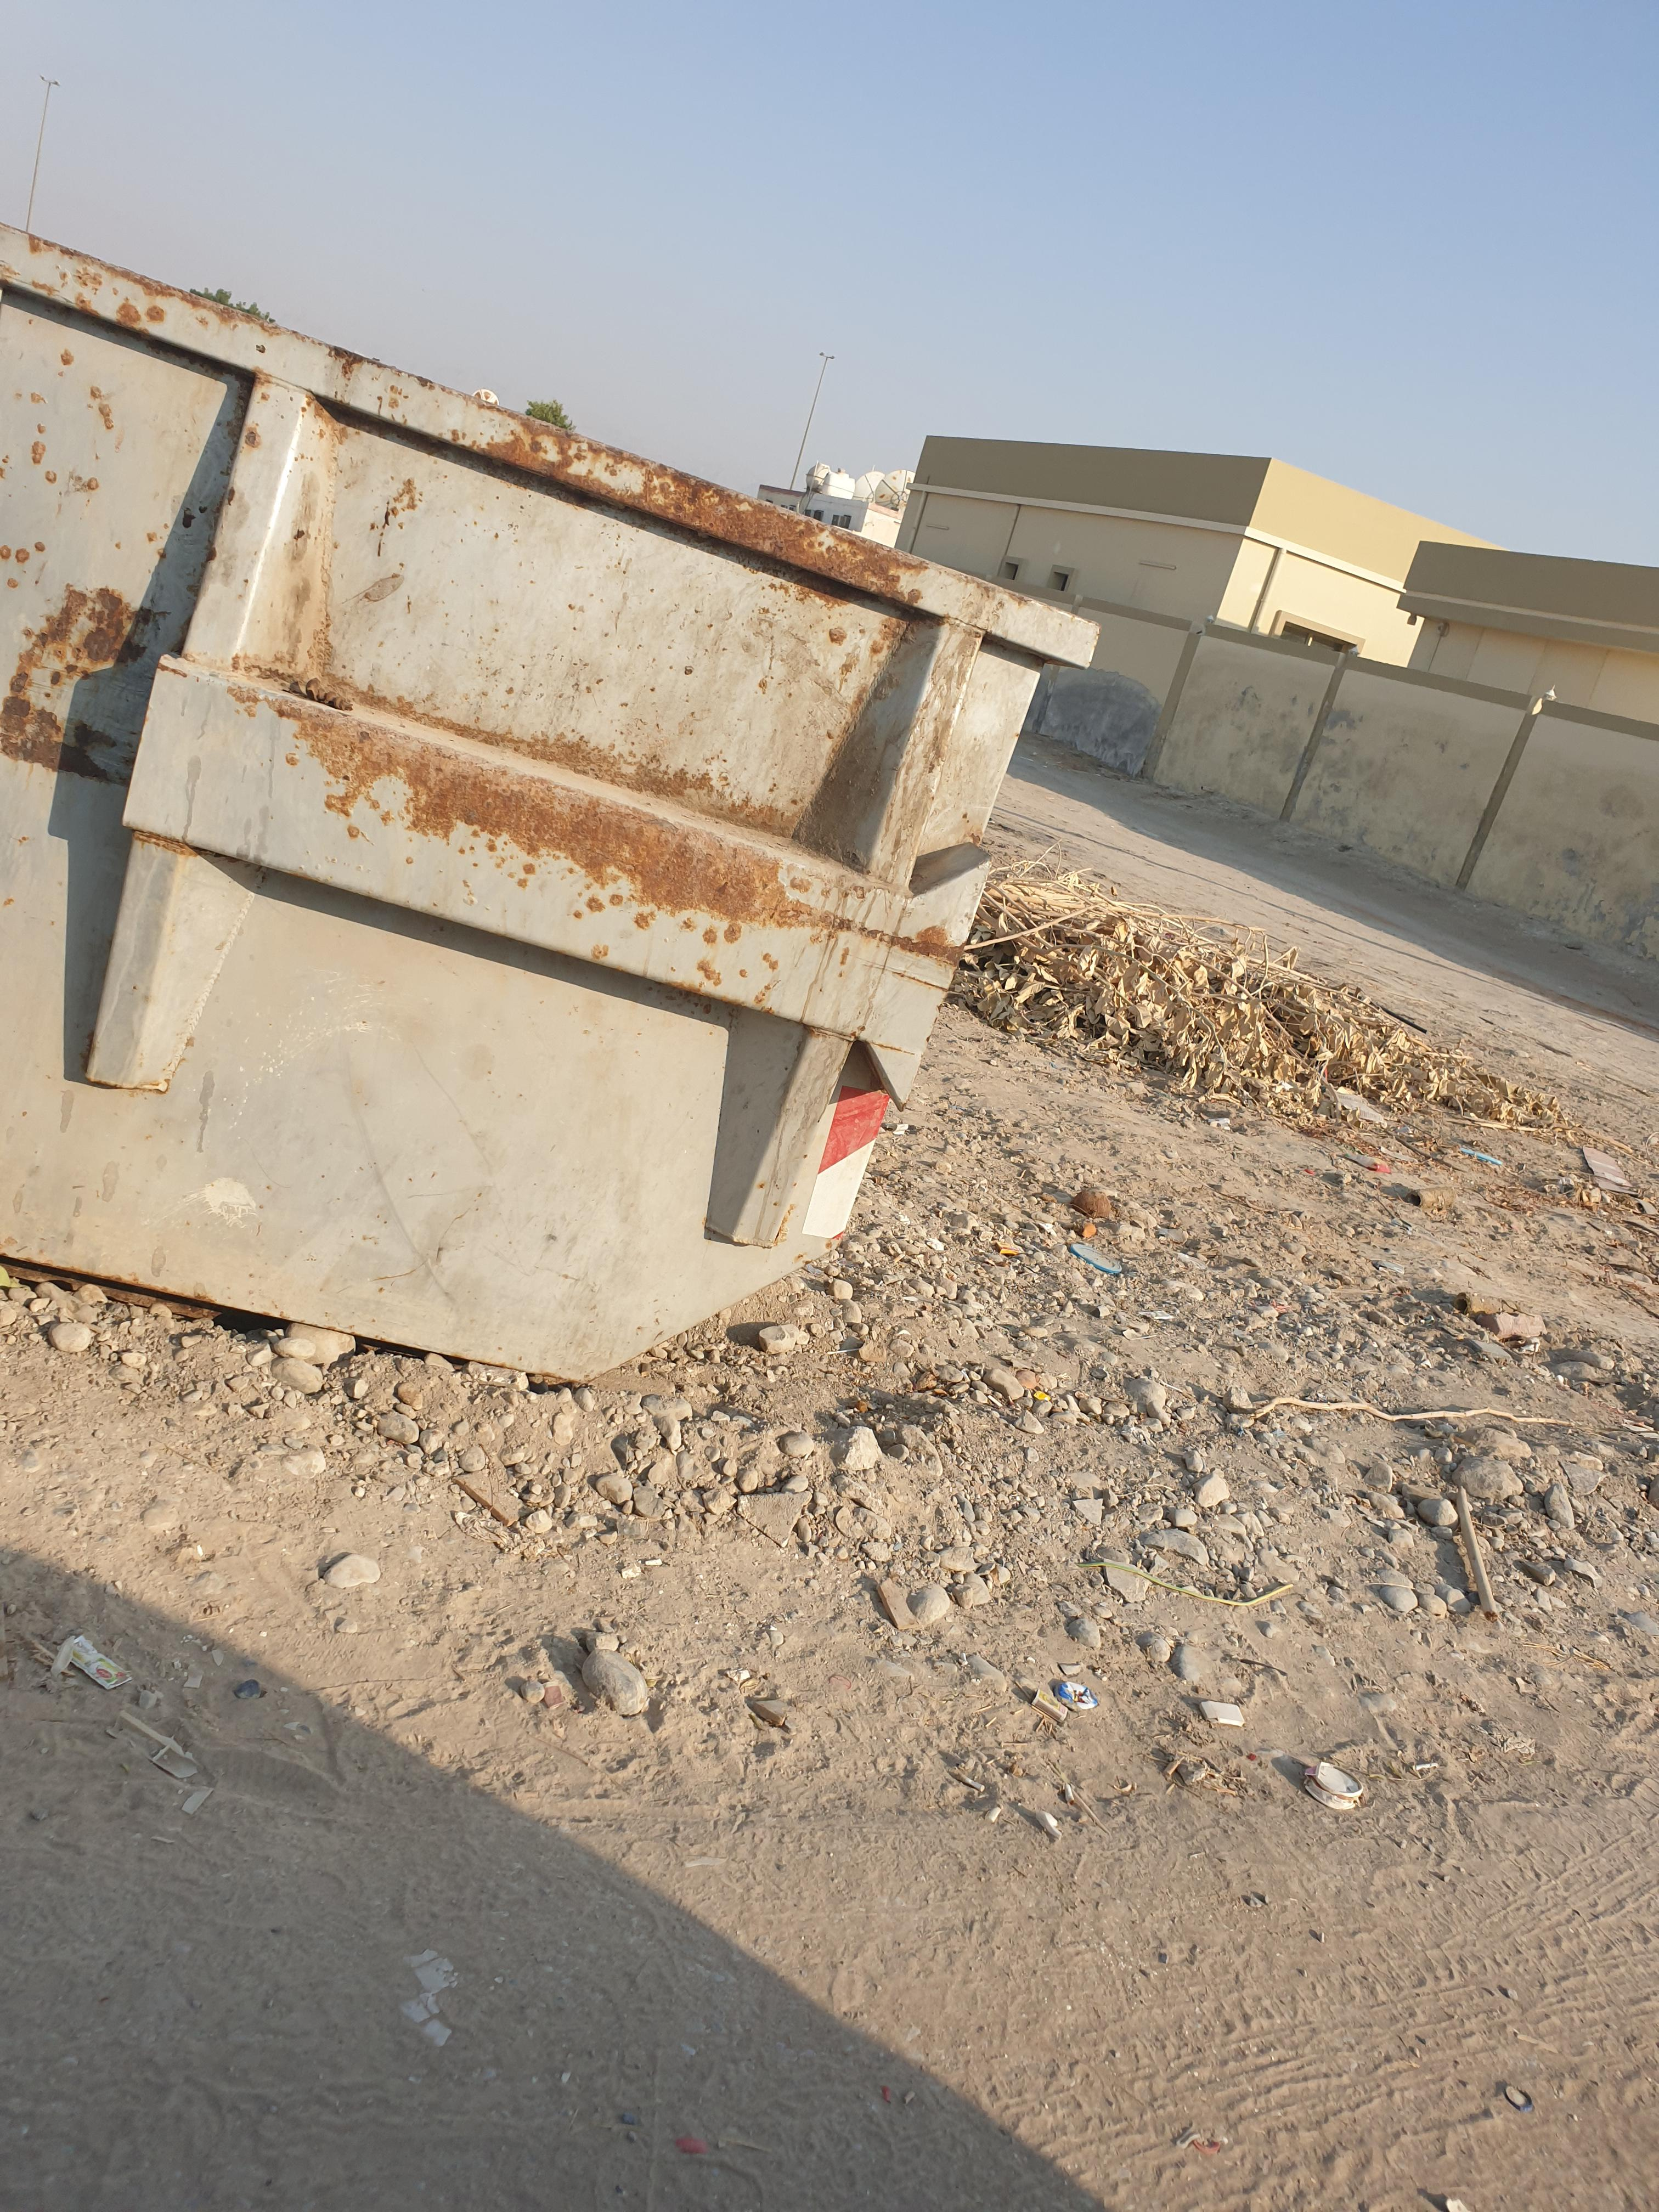fallen_trees: (1023, 819, 1621, 1216), (1061, 860, 1608, 1151)
